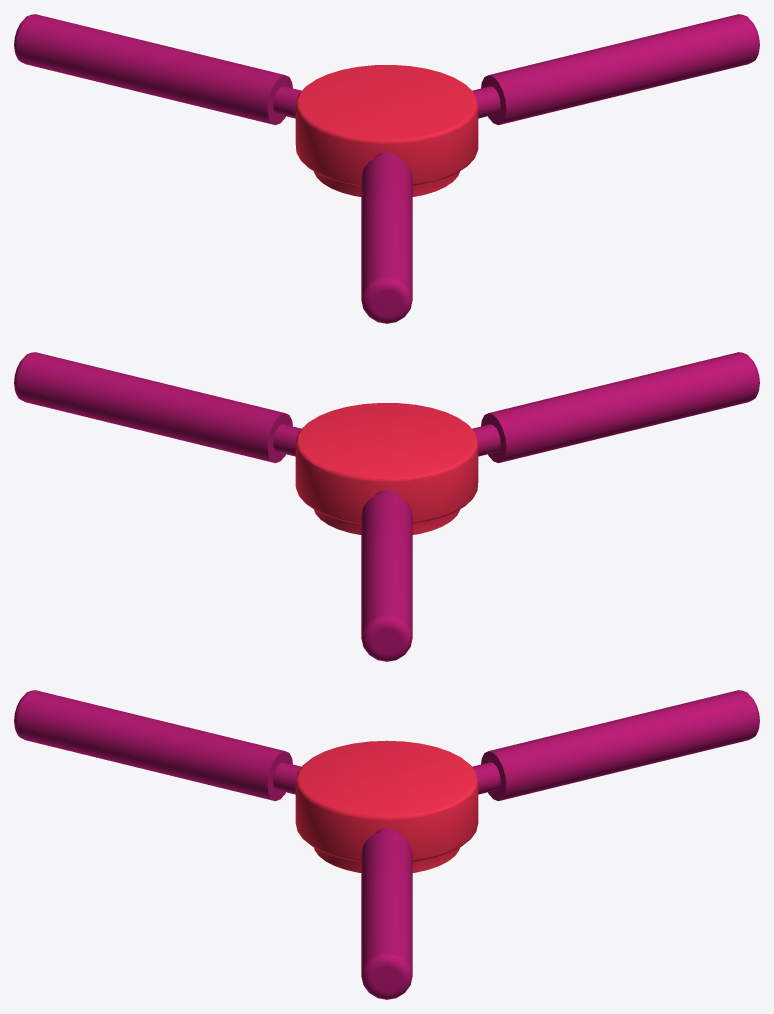
Rendered from Obs_09.fbx.
3 renders of one model, top to bottom at view 1: azimuth 30°, elevation 25°; view 2: azimuth 150°, elevation 25°; view 3: azimuth 270°, elevation 25°, orthographic.
Parts seen in each view (by area): view 1: Obs_09_Column, Obs_09_Base; view 2: Obs_09_Column, Obs_09_Base; view 3: Obs_09_Column, Obs_09_Base.
Part boxes in pixels (x1,y1,x2,y2): Obs_09_Column: [14, 14, 759, 323]; Obs_09_Base: [295, 65, 478, 196]; Obs_09_Column: [14, 352, 759, 661]; Obs_09_Base: [295, 403, 478, 534]; Obs_09_Column: [14, 690, 759, 999]; Obs_09_Base: [295, 740, 478, 872].
Bounding box in the file's own units: 1.83 × 0.2056 × 2.11.
